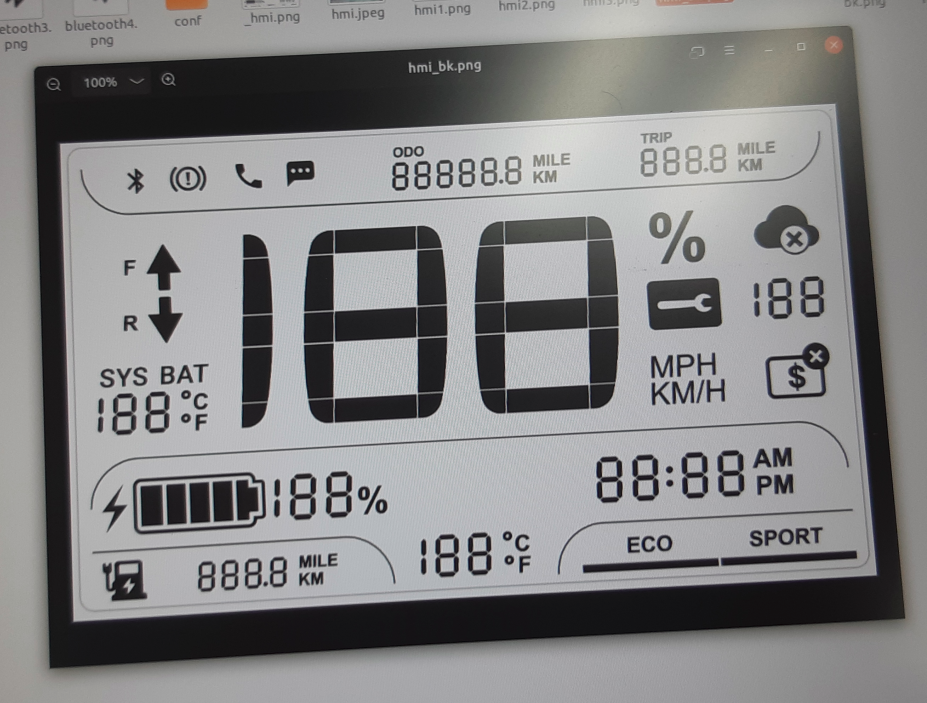bluetooth_on: (123, 165, 147, 196)
braking_on: (166, 162, 209, 194)
calling_on: (231, 161, 265, 191)
connection_lost: (751, 203, 821, 258)
error_code: (644, 277, 724, 332)
low_battery: (100, 557, 152, 603)
sms_on: (282, 158, 318, 190)
vin_id: (763, 340, 832, 403)
